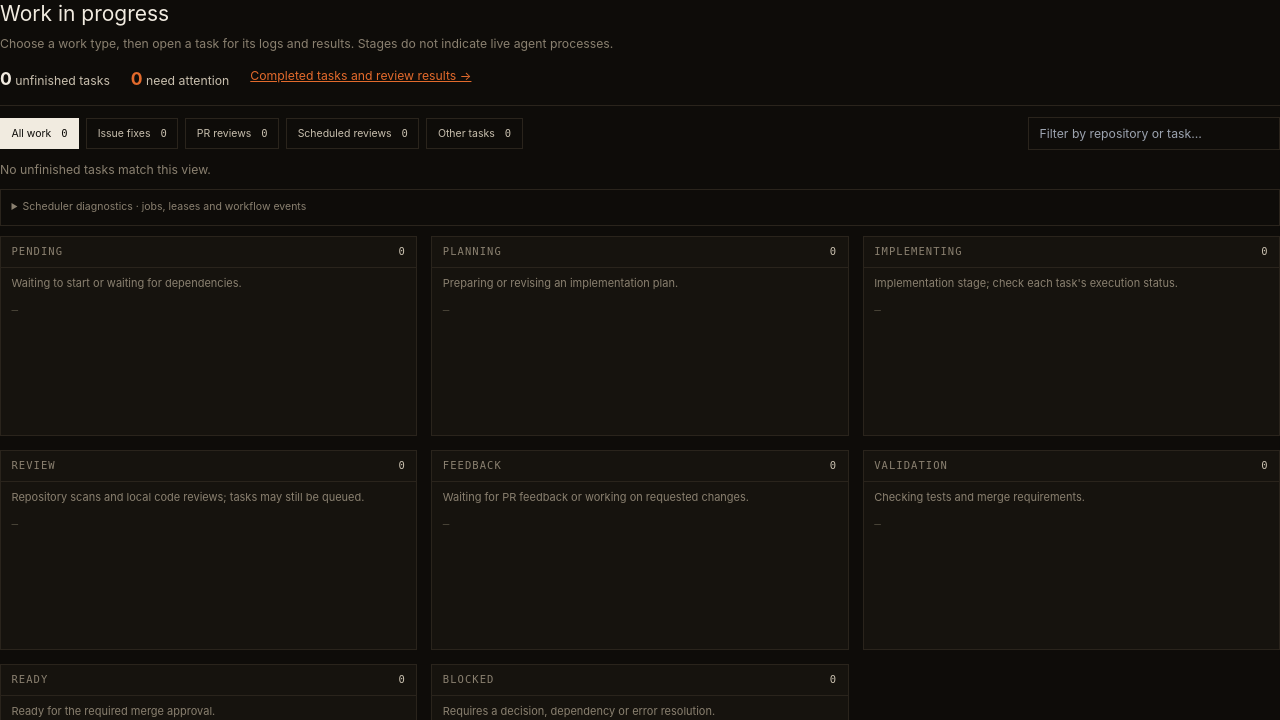
<Active> › refreshes runtime data when workflow cancellation returns a conflict
Click the heading "Scheduler diagnostics · jobs, leases and workflow events" at (164, 206), box 23,200 -> 306,213
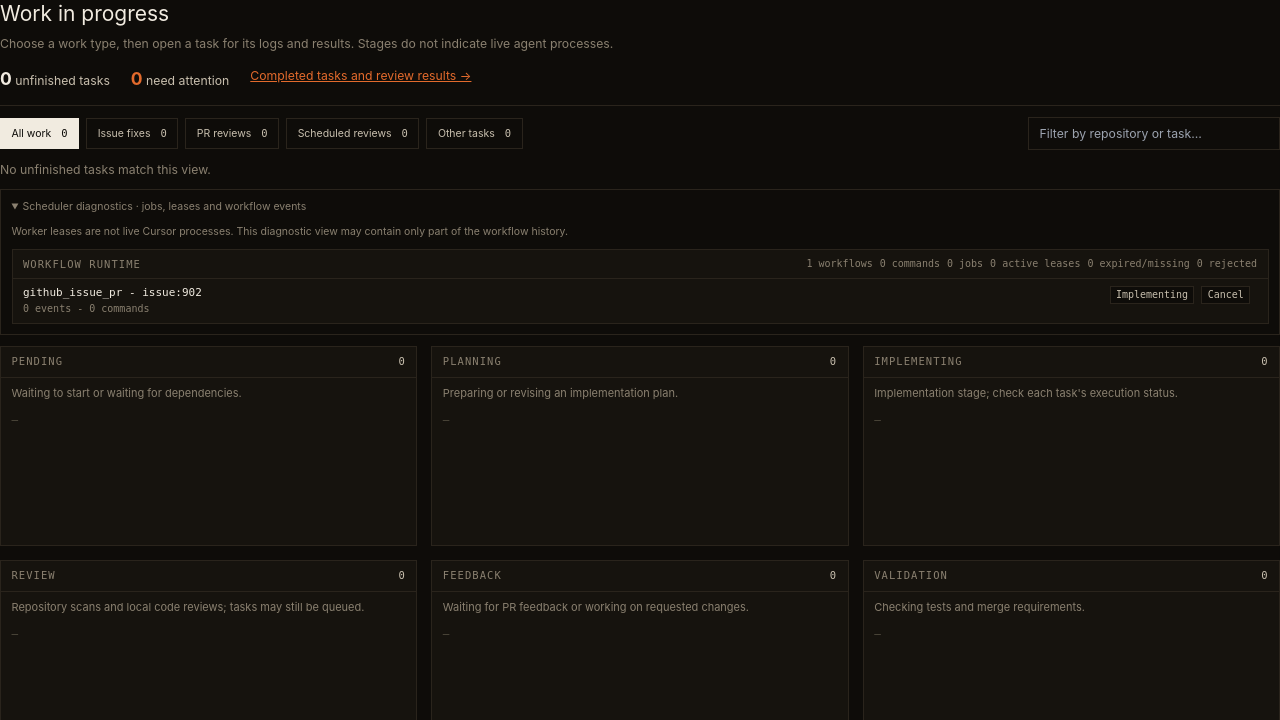
Click the button "Cancel" at (1226, 295), box 1201,286 -> 1250,304
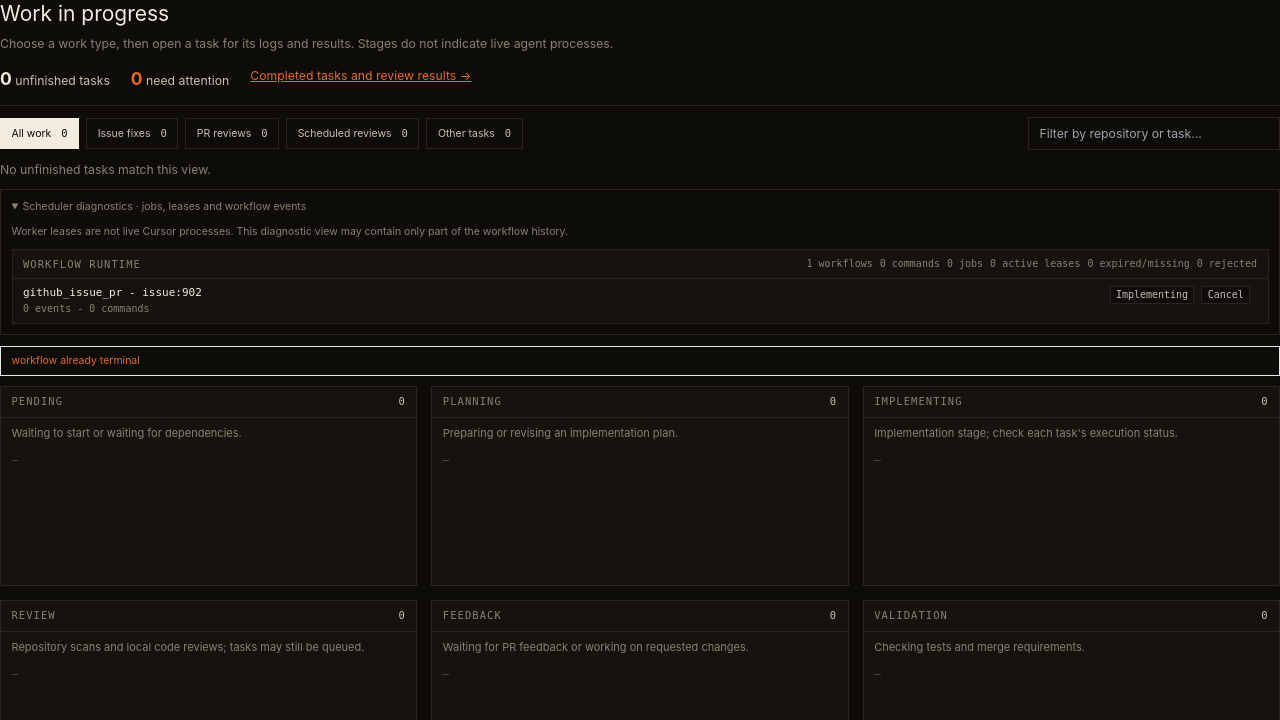
Check: the message reads "workflow already terminal", box 12,354 -> 140,367
